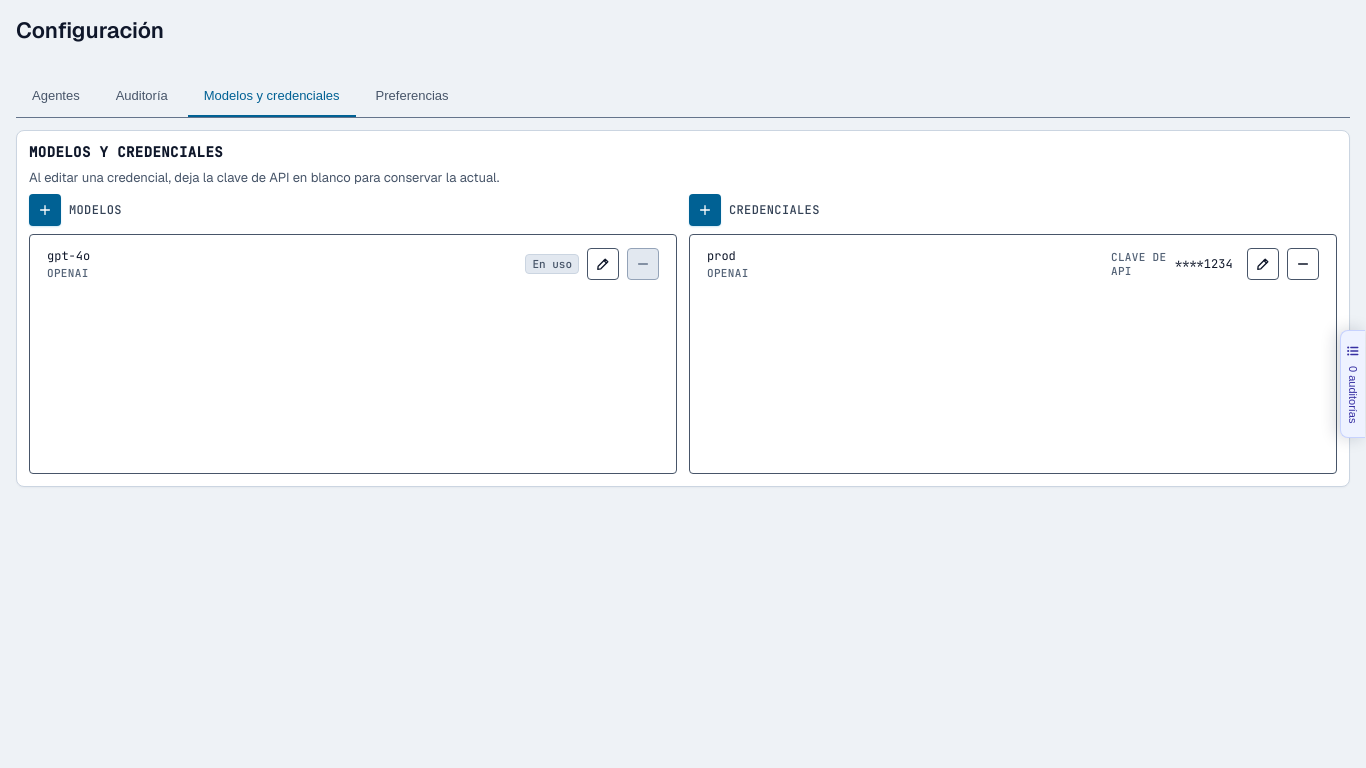
SettingsPage › translates the model registration toast to Spanish
Check: the option "gpt-4o OpenAI En uso" is shown, box [34,239,672,288]
Click the button named "Añadir modelo": click(45, 210) [29,194,61,226]
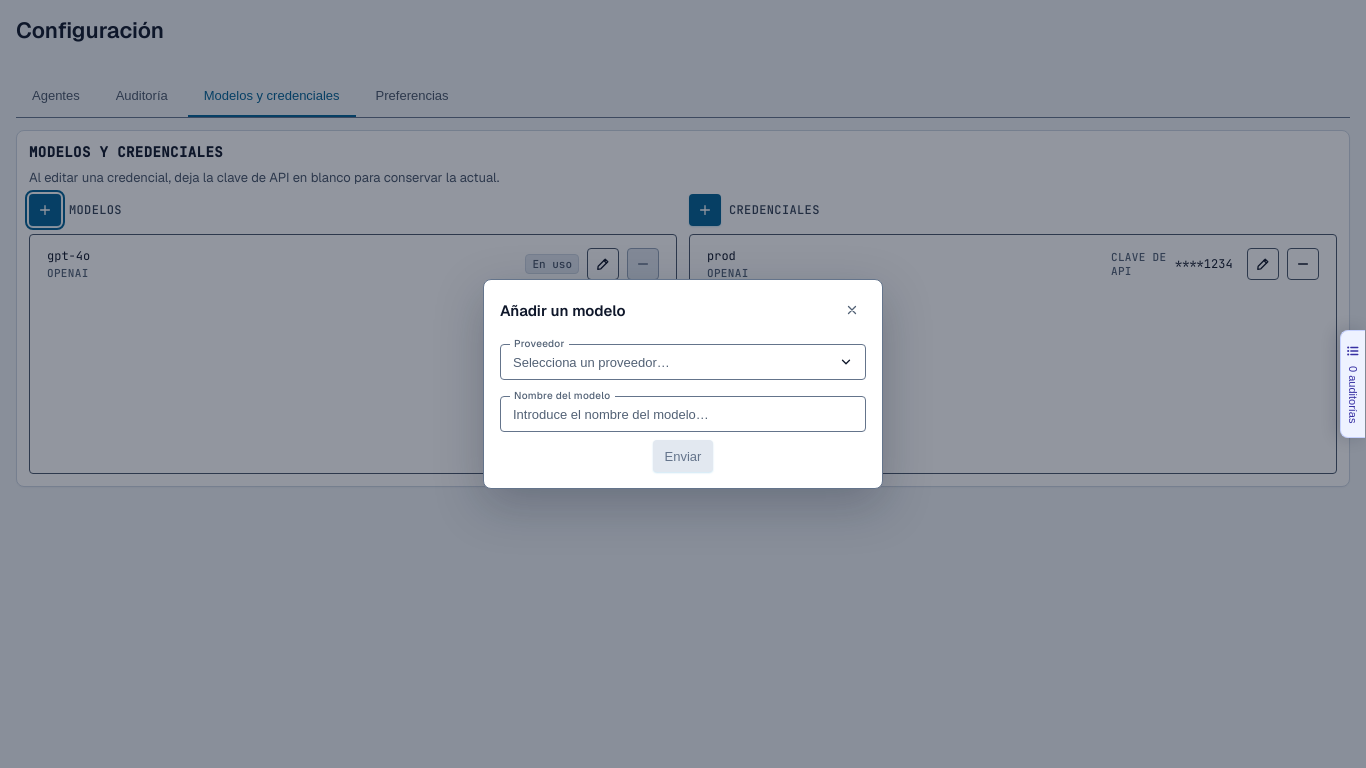
Click the button "Selecciona un proveedor…": click(591, 362) [500,344,866,380]
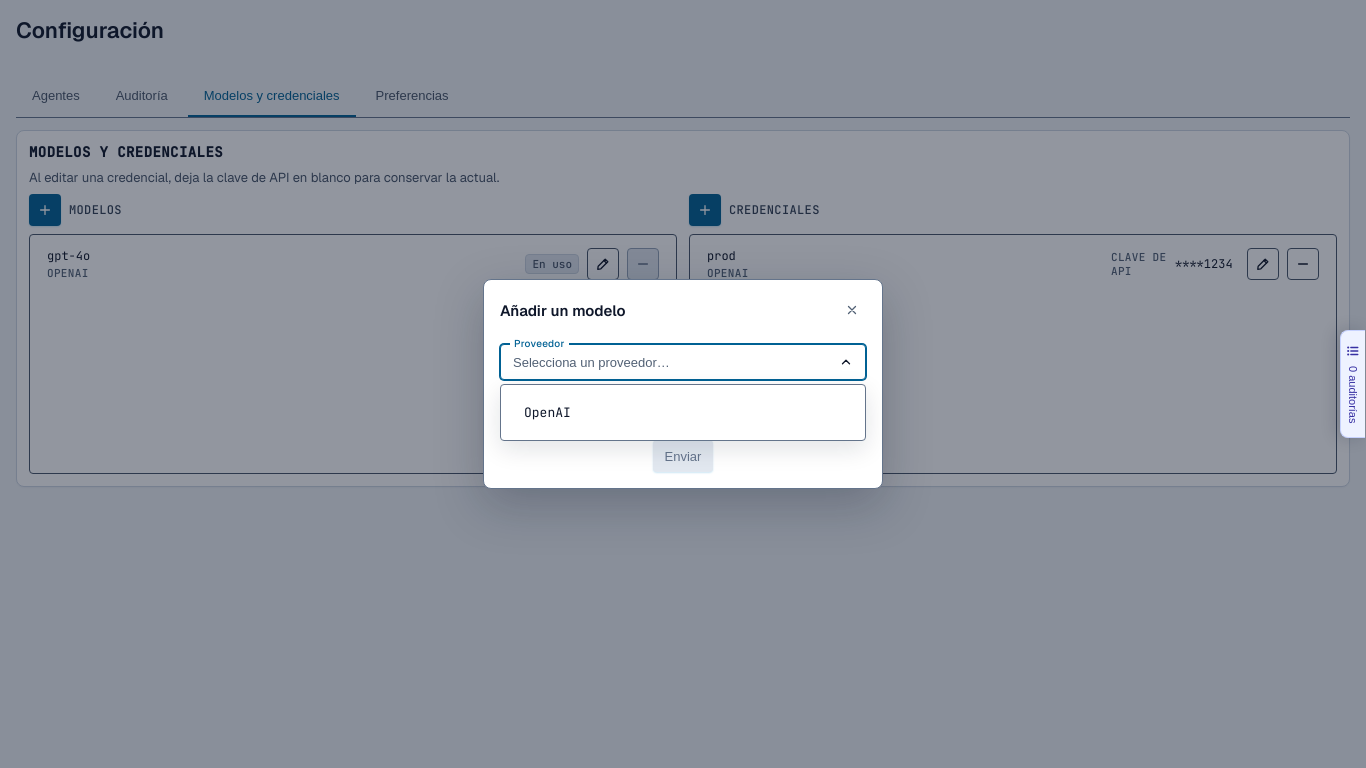
Click the option "OpenAI": click(547, 412) [511,395,855,430]
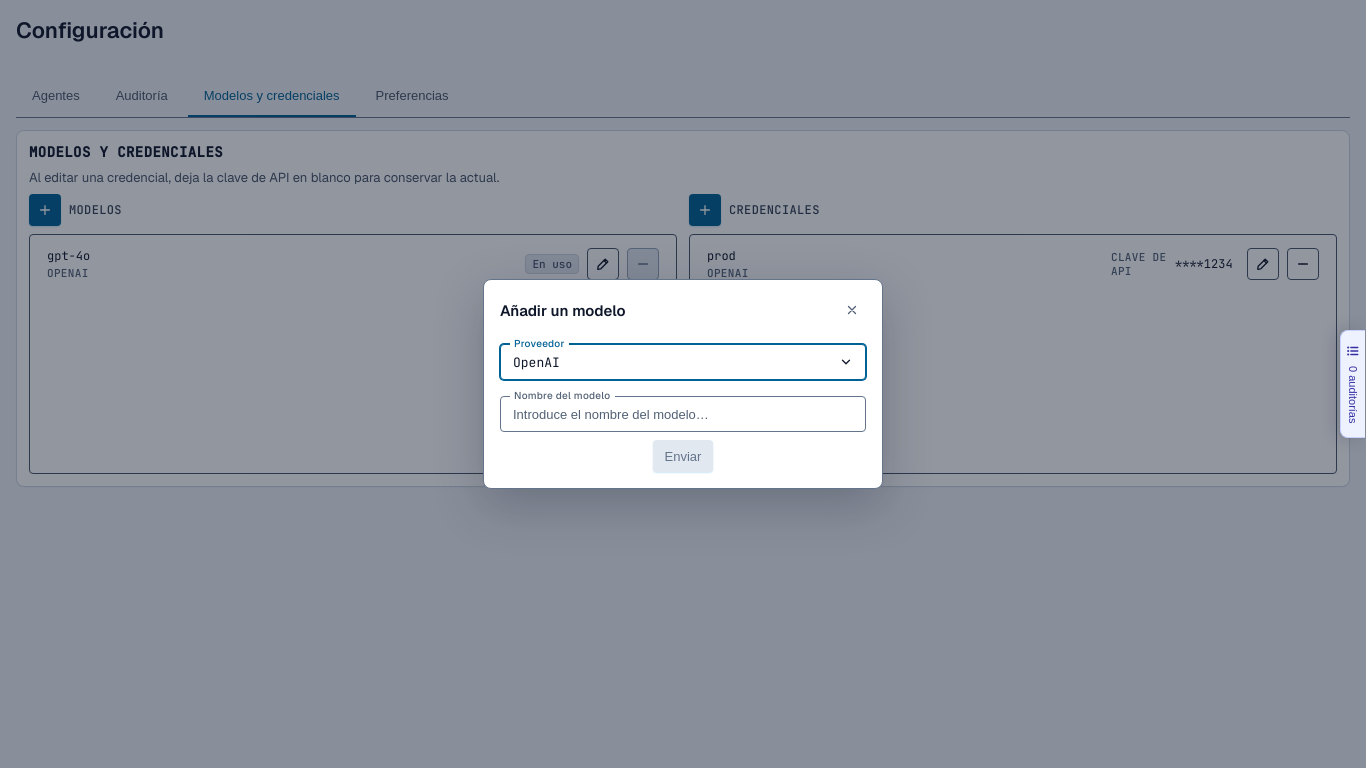
In the field with placeholder "Introduce el nombre del modelo…": (683, 414) [500,396,866,432], type "o1"
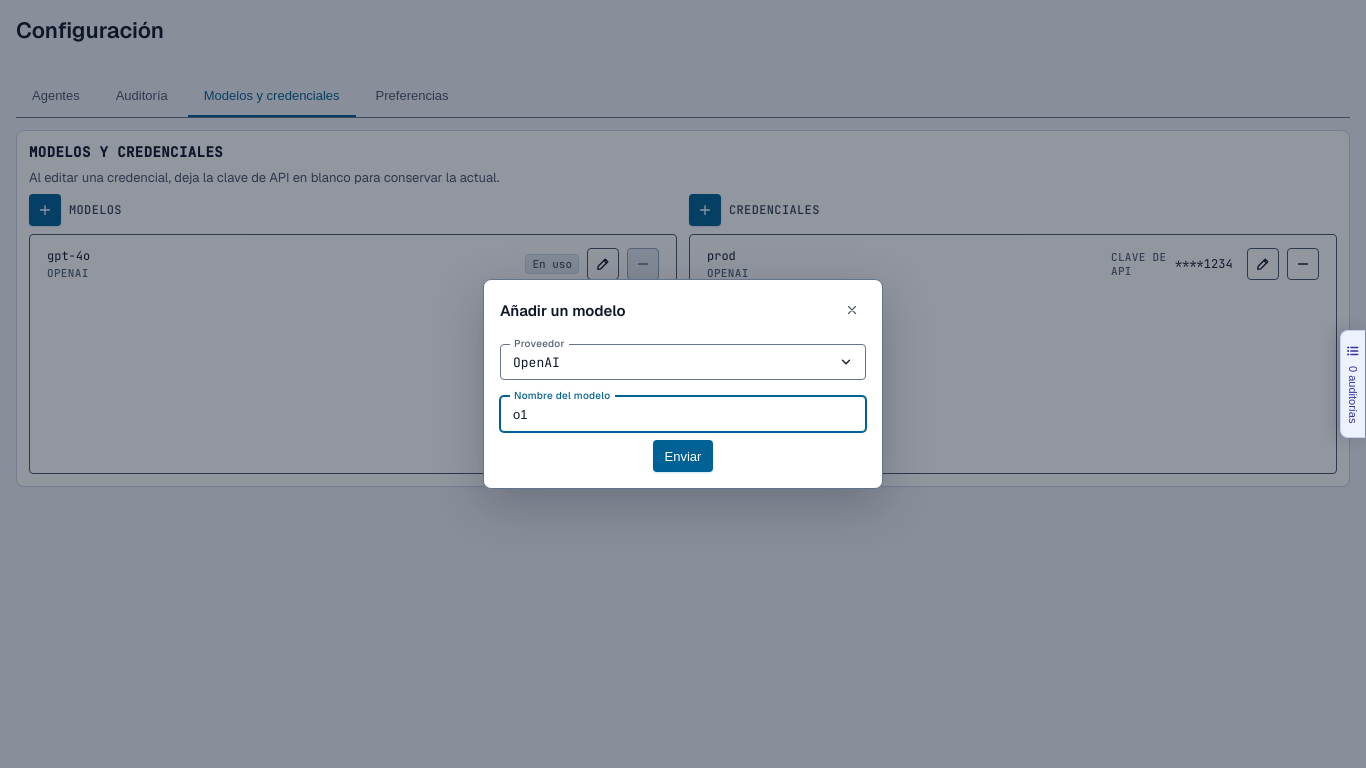
Click the button "Enviar": click(683, 456) [653,440,714,472]
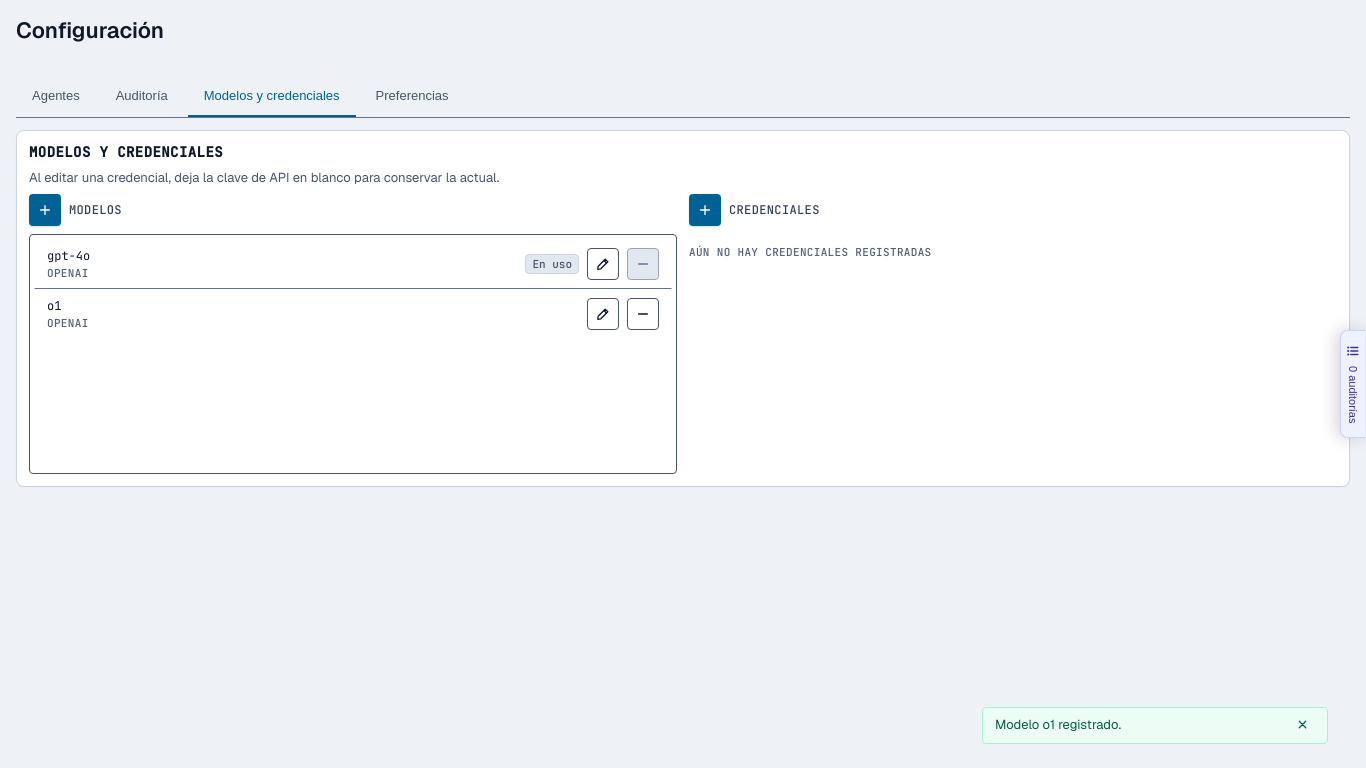
Check: the text "Modelo o1 registrado." is shown, box [995,716,1121,733]
Check: the dialog is gone
